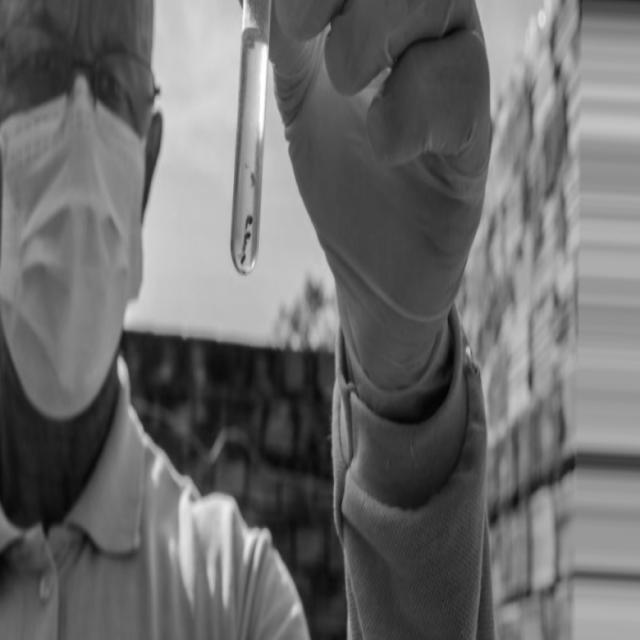larvas: (243, 232, 250, 252), (250, 172, 258, 188), (238, 253, 246, 265), (246, 215, 252, 228)
